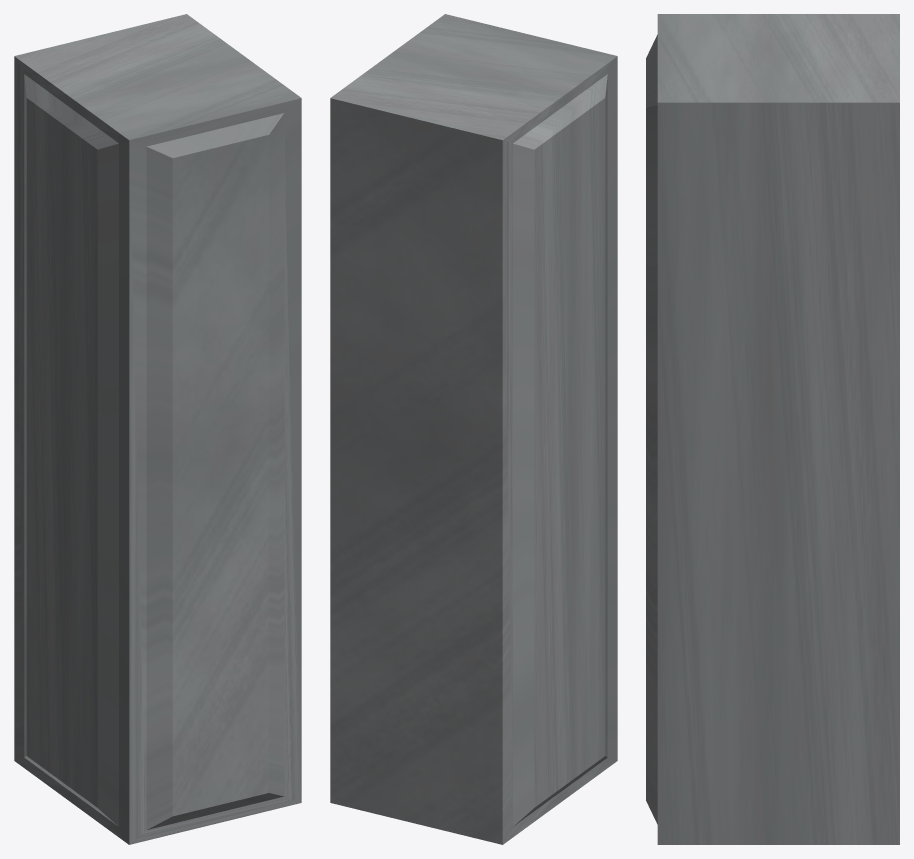
Rendered from CornerAsset3.FBX.
3 views of the same model, side by side, from view 1: azimuth 30°, elevation 25°; view 2: azimuth 150°, elevation 25°; view 3: azimuth 270°, elevation 25° (orthographic). The views are drawn at different scales.
Parts seen in each view (by area): view 1: Box001; view 2: Box001; view 3: Box001.
Boxes of the visible parts, x1,y1,x2,y2 form: Box001: (14, 14, 301, 844); Box001: (330, 14, 617, 844); Box001: (646, 14, 899, 844).
Bounding box in the file's own units: 126 × 464 × 144.
Materials: 1 (1 with a texture image).
